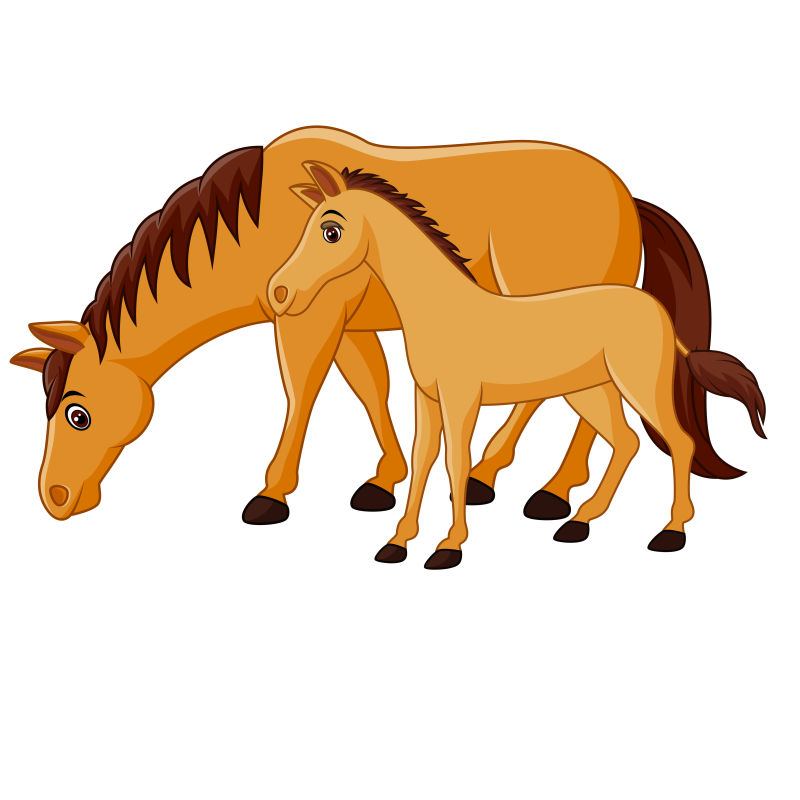background: (8, 120, 800, 600)
